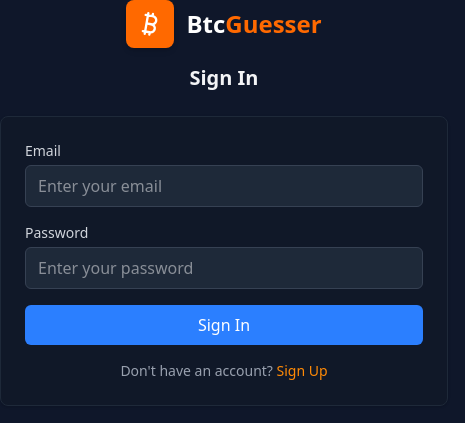
Scenario: SignInForm › form interactions › should disable inputs when loading
Step 1. Type "test@example.com" into the field labelled "Email" → (224, 186), box [25,165,423,207]
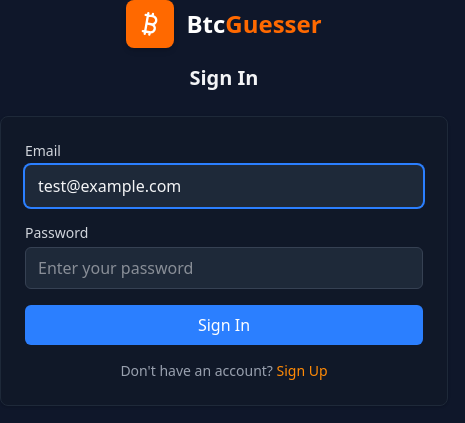
Step 2. Type "password123" into the password field labelled "Password" → (224, 268), box [25,247,423,289]
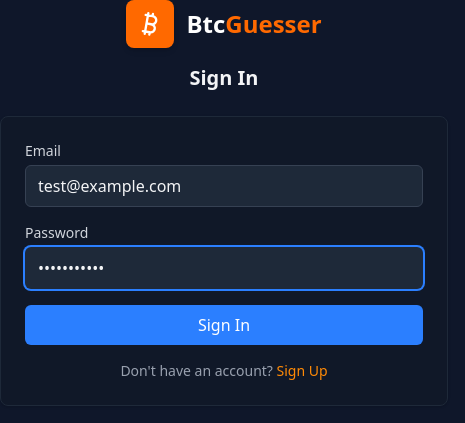
Step 3. Click the button "Sign In" → (224, 325), box [25,305,423,345]
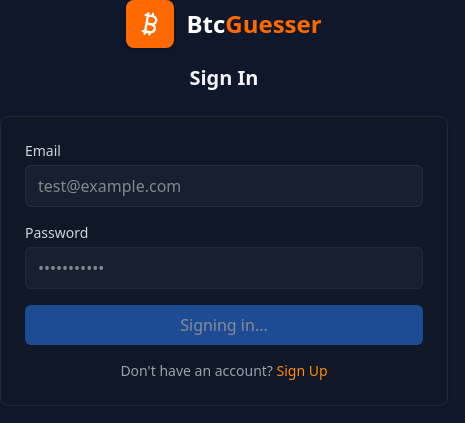
Result: the field labelled "Email" is disabled at [25,165,423,207]
Result: the password field labelled "Password" is disabled at [25,247,423,289]
